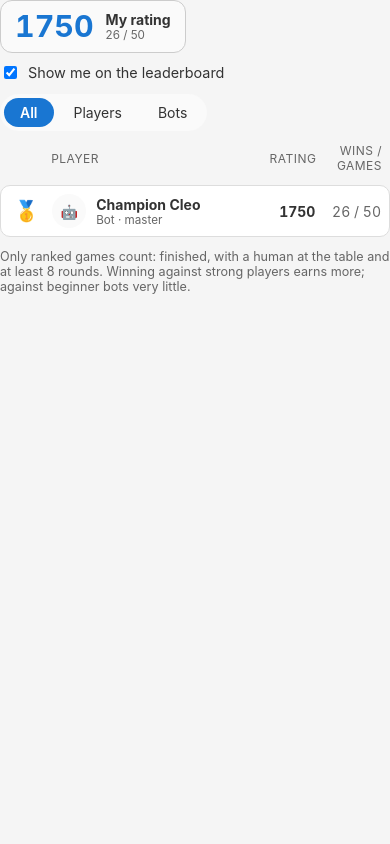
Test: TablesLeaderboardComponent › shows the base the rating is counted from, and the chart starts on it
Click the button with class "lb-row".
click(195, 211)  # box [0, 185, 389, 237]
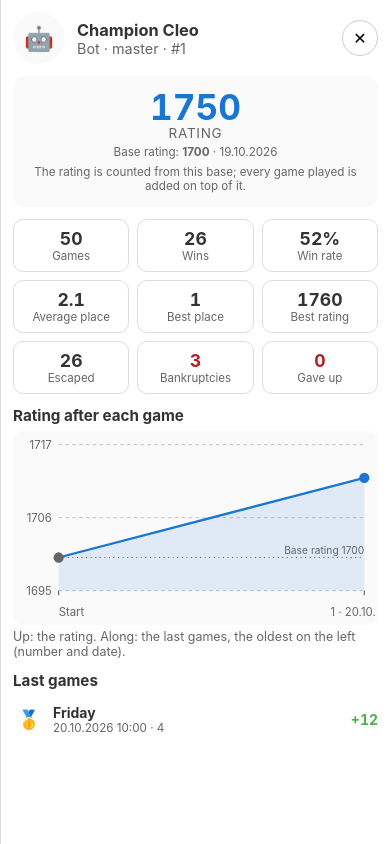
Check: the element named "1717 1706 1695 Start 1 · 20.10. Base rating 1700 Base rating" shows "Base rating", box [114, 145, 182, 159]
Check: the text "1700" is shown, box [182, 145, 210, 159]
Check: the element named "1717 1706 1695 Start 1 · 20.10. Base rating 1700 Base rating" shows "19.10.2026", box [210, 145, 277, 159]
